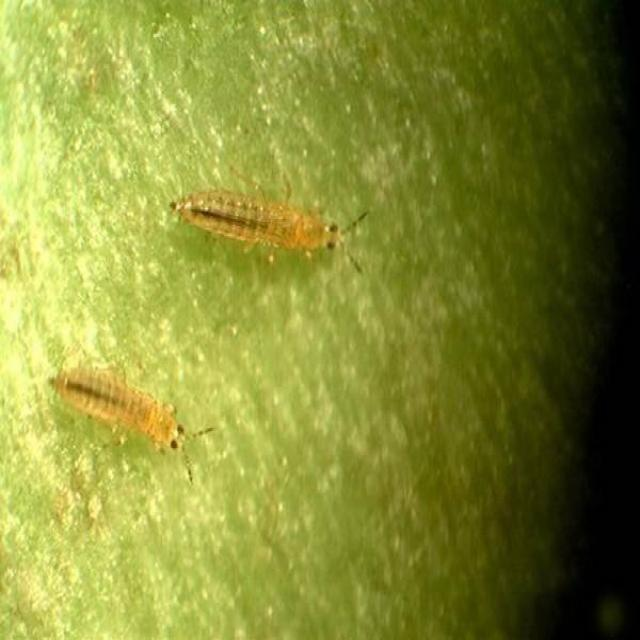Thrip-Adult-: (166, 150, 390, 301), (18, 342, 218, 496)
